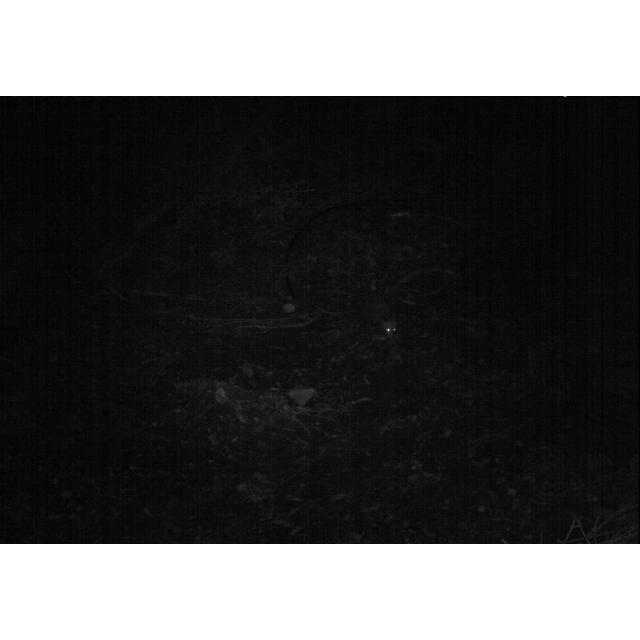animals: (378, 303, 400, 339)
